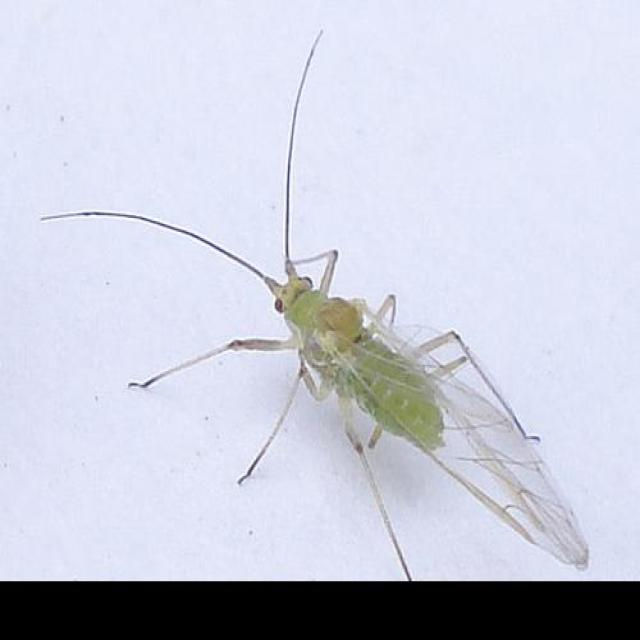Aphids: (48, 87, 600, 570)
